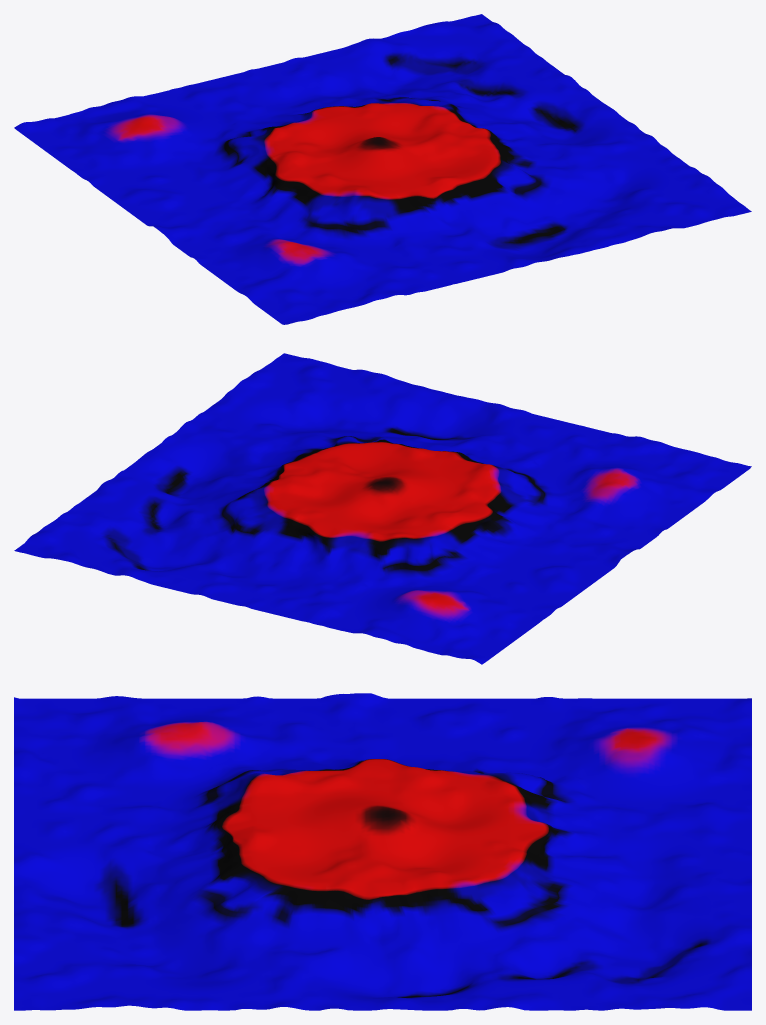
File: Ground.fbx
3 renders of one model, top to bottom at view 1: azimuth 30°, elevation 25°; view 2: azimuth 150°, elevation 25°; view 3: azimuth 270°, elevation 25°, orthographic. The views are drawn at different scales.
Visible parts, largest first — view 1: Ground; view 2: Ground; view 3: Ground.
Part boxes in pixels (left/top/right/bottom): Ground: left=14, top=14, right=751, bottom=324; Ground: left=14, top=353, right=751, bottom=664; Ground: left=14, top=693, right=751, bottom=1010.
Bounding box in the file's own units: 26 × 2.35 × 26.
